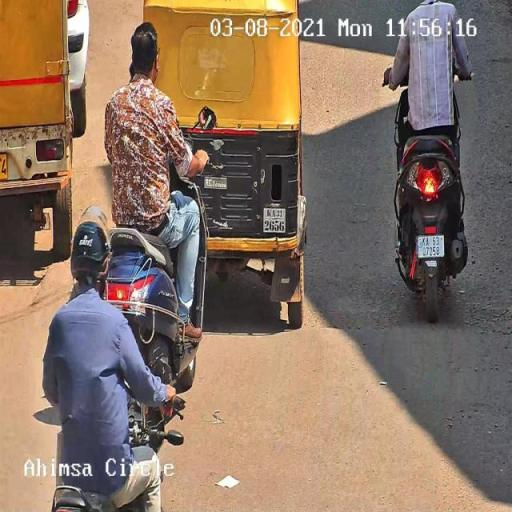using mobile: (126, 54, 140, 86)
